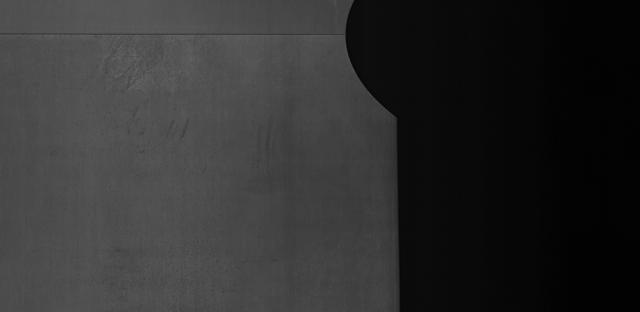welding_line: (3, 21, 363, 49)
